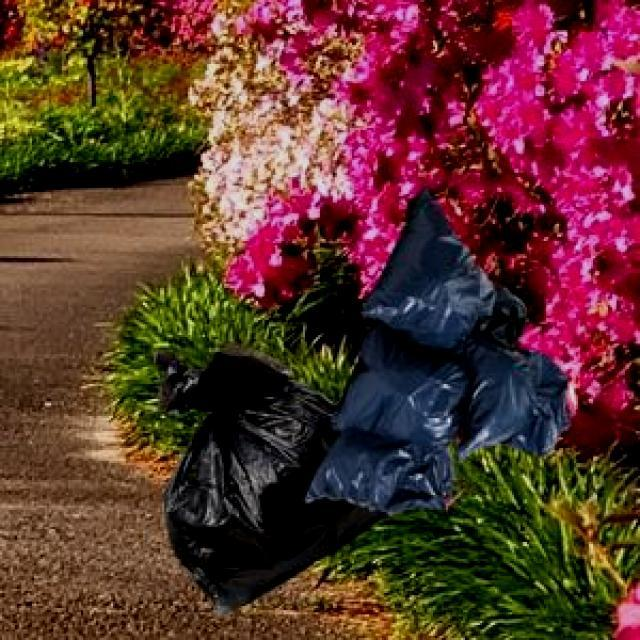Trashbag: (162, 357, 346, 590), (355, 216, 522, 338), (335, 329, 491, 430), (338, 430, 470, 516), (480, 336, 566, 452)
